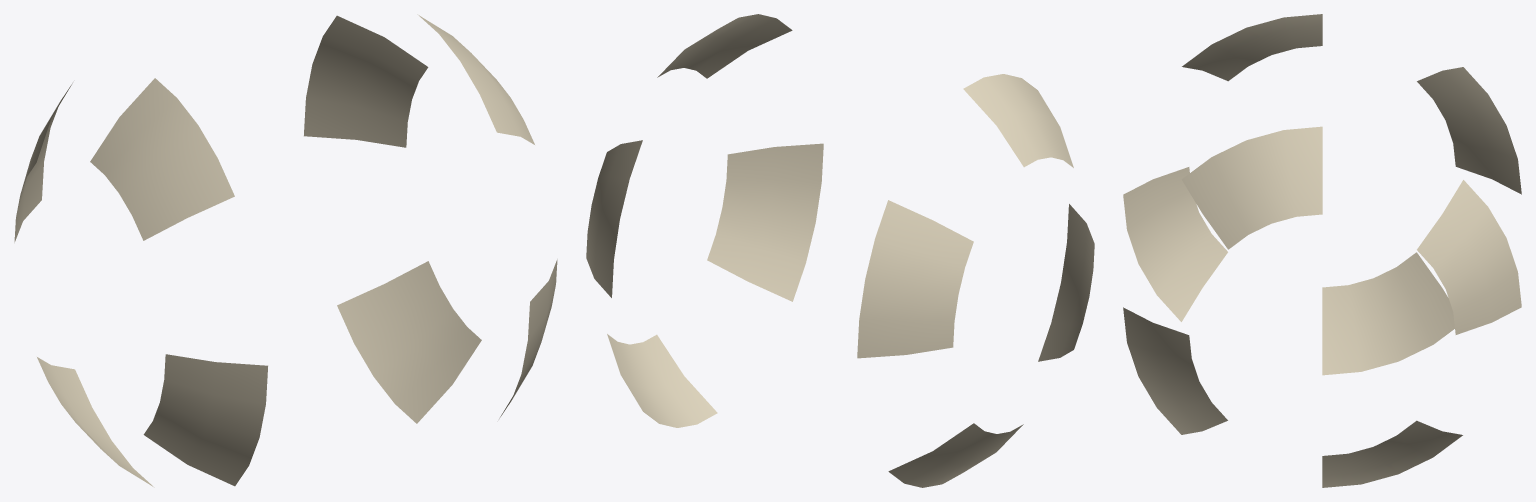
File: ball_look_cutaway_c3.glb
3 views of the same model, side by side, from view 1: azimuth 30°, elevation 25°; view 2: azimuth 150°, elevation 25°; view 3: azimuth 270°, elevation 25° (orthographic). The views are drawn at different scales.
Parts seen in each view (by area): view 1: Core; view 2: Core; view 3: Core.
Part boxes in pixels (box(x1,y1,x2,y2)): Core: box(14, 14, 557, 487); Core: box(586, 14, 1094, 487); Core: box(1123, 14, 1521, 487).
Bounding box in the file's own units: 1.63 × 1.63 × 1.63.
